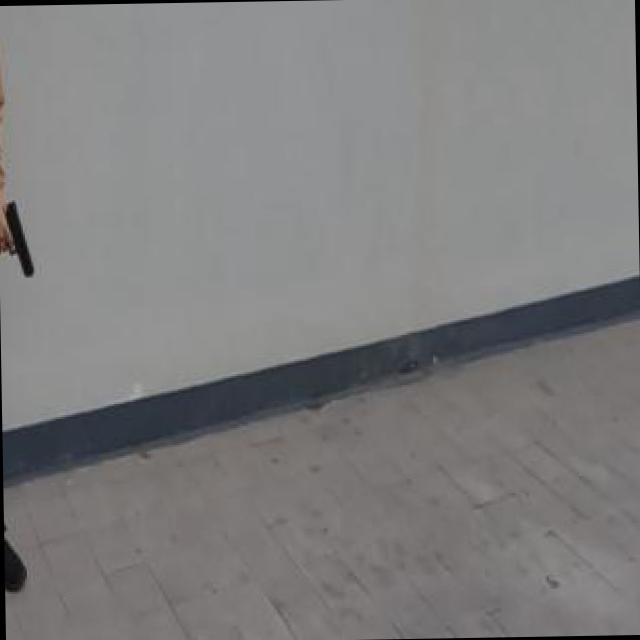Guns: (0, 187, 37, 288)
